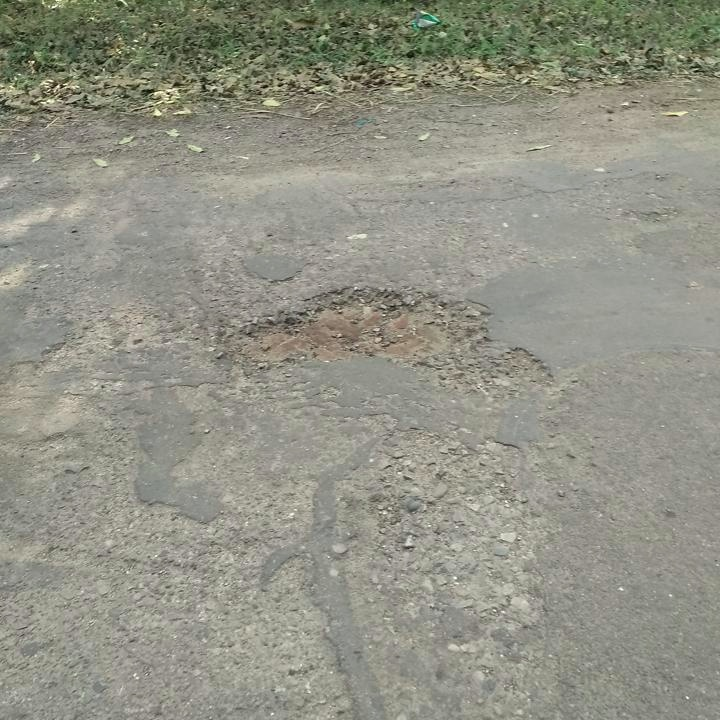pothole: (214, 277, 557, 398)
